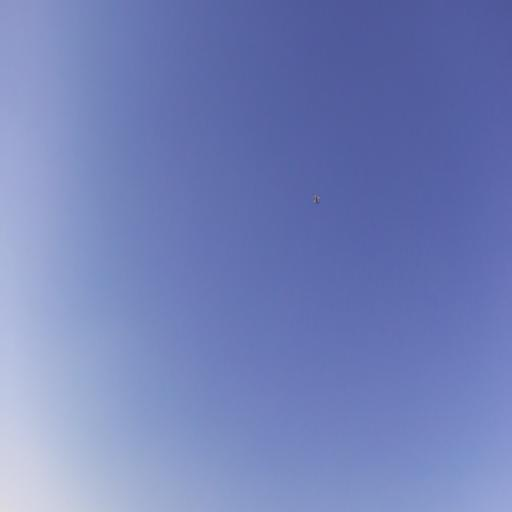drones: (312, 194, 320, 206)
